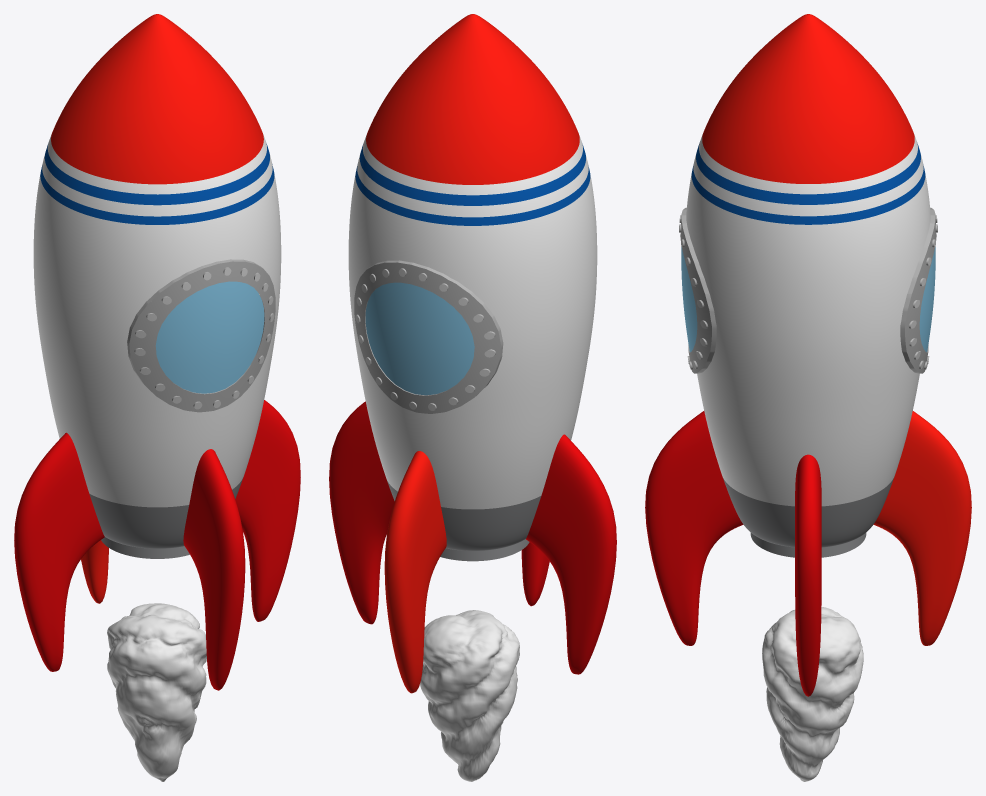
File: ракета.fbx
3 views of the same model, side by side, from view 1: azimuth 30°, elevation 25°; view 2: azimuth 150°, elevation 25°; view 3: azimuth 270°, elevation 25° (orthographic).
Visible parts, largest first — view 1: Окружность, Куб.003; view 2: Окружность, Куб.003; view 3: Окружность, Куб.003.
Boxes of the visible parts, left/top/right/bottom form: Окружность: left=14, top=14, right=300, bottom=690; Куб.003: left=107, top=603, right=206, bottom=781; Окружность: left=329, top=14, right=616, bottom=693; Куб.003: left=420, top=610, right=519, bottom=781; Окружность: left=645, top=14, right=971, bottom=696; Куб.003: left=762, top=607, right=863, bottom=781.
Bounding box in the file's own units: 146 × 378 × 146.
